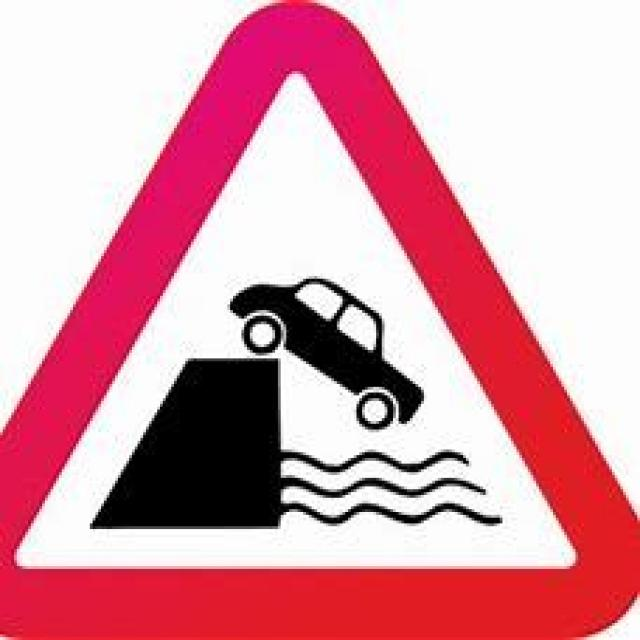QUAY_SIDE_OR_RIVER_BANK: (0, 3, 637, 634)
